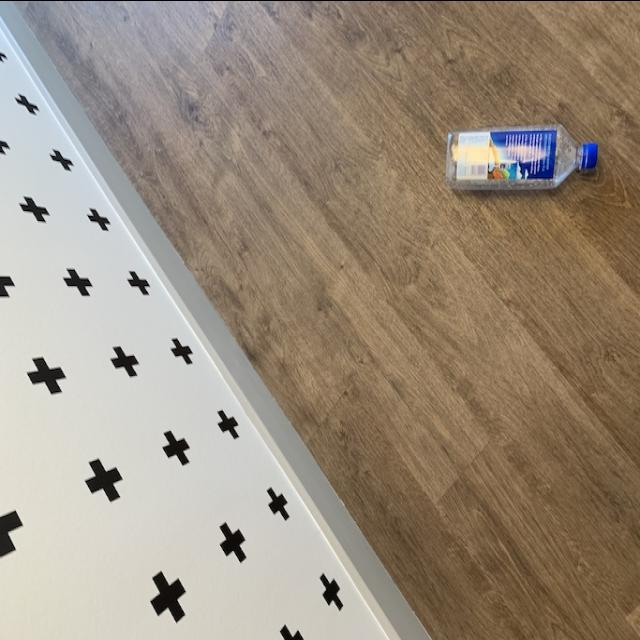PET: (445, 116, 601, 195)
